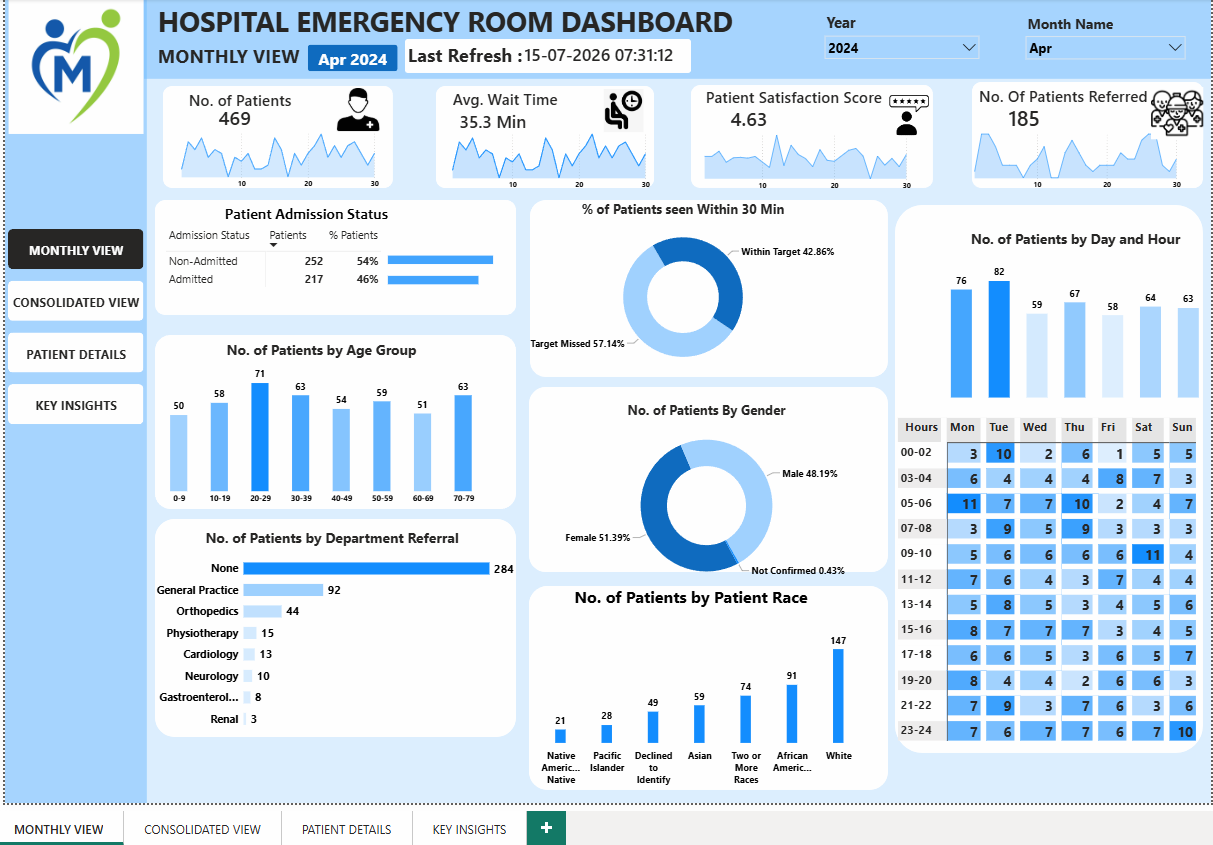

The dashboard page shown, as its layout file describes it:
{"tool":"powerbi","page":{"name":"MONTHLY VIEW","canvas":[2100,1400],"ordinal":0},"visuals":[{"type":"shape","box":[261.2,905.5,628.6,379.6],"z":0},{"type":"shape","box":[261.2,350,628.6,200.2],"z":1000},{"type":"shape","box":[275.1,151.5,400.5,177.6],"z":2000},{"type":"shape","box":[0,0,247.3,1400],"z":3000},{"type":"shape","box":[242,0,1858,139.3],"z":4000},{"type":"textbox","box":[261.2,0,1319,100.7],"z":5000},{"type":"textbox","box":[261.2,70.9,434.7,89.6],"z":6000},{"type":"slicer","fields":{"Values":["Date Table.YEAR"]},"box":[1417.4,19.2,289.1,101],"z":7000},{"type":"cardVisual","fields":{"Data":["Hospital ER_Data.No of Patients"]},"box":[330.8,153.2,259.5,130.6],"z":8000},{"type":"slicer","fields":{"Values":["Date Table.Month Name"]},"box":[1767.4,20.9,297.8,101],"z":9000},{"type":"areaChart","fields":{"Category":["Date Table.Date.Variation.Date Hierarchy.Day"],"Y":["Hospital ER_Data.No of Patients"]},"box":[296,217.7,365.7,118.4],"z":10000},{"type":"textbox","box":[315.2,151.5,290.8,88.8],"z":11000},{"type":"cardVisual","fields":{"Data":["Min(Date Table.Month & Year)"]},"box":[515,62.7,180.9,75.9],"z":12000},{"type":"shape","box":[750.5,151.5,379.6,177.6],"z":13000},{"type":"shape","box":[1194.5,149.8,421.4,179.4],"z":14000},{"type":"shape","box":[1683.8,144.5,402.2,184.6],"z":15000},{"type":"textbox","box":[774.9,149.8,243.8,83.6],"z":16000},{"type":"areaChart","fields":{"Category":["Date Table.Date.Variation.Date Hierarchy.Day"],"Y":["CountNonNull(Hospital ER_Data.Avg Wait Time)"]},"box":[764.4,221.1,365.7,120.1],"z":17000},{"type":"cardVisual","fields":{"Data":["Min(Hospital ER_Data.Avg Wait Time)"]},"box":[750.5,139.3,247.3,134.1],"z":18000},{"type":"cardVisual","fields":{"Data":["Avg(Hospital ER_Data.Patient Satisfaction Score)"]},"box":[1222.4,153.2,257.7,132.3],"z":19000},{"type":"textbox","box":[1215.4,146.3,358.7,88.8],"z":20000},{"type":"areaChart","fields":{"Category":["Date Table.Date.Variation.Date Hierarchy.Day"],"Y":["Hospital ER_Data.Avg of Satisfaction Score"]},"box":[1203.2,222.9,381.3,120.1],"z":21000},{"type":"textbox","box":[1683.8,144.5,358.7,87.1],"z":22000},{"type":"cardVisual","fields":{"Data":["Hospital ER_Data.No of Patient Referred"]},"box":[1706.5,155,257.7,132.3],"z":23000},{"type":"areaChart","fields":{"Category":["Date Table.Date.Variation.Date Hierarchy.Day"],"Y":["Hospital ER_Data.No of Patient Referred"]},"box":[1673.4,221.1,381.3,120.1],"z":24000},{"type":"pivotTable","title":"Patient Admission Status","fields":{"Rows":["Hospital ER_Data.Admission Status"],"Values":["Hospital ER_Data.No of Patients1","Hospital ER_Data.% Patients"]},"box":[275.1,358.7,499.8,149.8],"z":25000},{"type":"barChart","fields":{"Category":["Hospital ER_Data.Admission Status"],"Y":["Hospital ER_Data.No of Patients"]},"box":[661.7,416.2,228.1,106.2],"z":26000},{"type":"shape","box":[261.2,585.1,628.6,303],"z":27000},{"type":"clusteredColumnChart","title":"No. of Patients by Age Group","fields":{"Category":["Hospital ER_Data.Age Group"],"Y":["Hospital ER_Data.No of Patients"]},"box":[254.2,593.8,593.8,294.3],"z":28000},{"type":"clusteredBarChart","title":"No. of Patients by Department Referral","fields":{"Y":["Hospital ER_Data.No of Patients"],"Category":["Hospital ER_Data.Department Referral"]},"box":[247.3,921.1,644.3,363.9],"z":29000},{"type":"shape","box":[914.2,350,623.4,308.2],"z":30000},{"type":"shape","box":[912.4,675.6,625.1,322.1],"z":31000},{"type":"donutChart","title":"% of Patients seen Within 30 Min","fields":{"Category":["Hospital ER_Data.WaitTime"],"Y":["Hospital ER_Data.No of Patients"]},"box":[875.9,350,609.5,308.2],"z":32000},{"type":"donutChart","title":"No. of Patients By Gender","fields":{"Y":["Hospital ER_Data.No of Patients"],"Category":["Hospital ER_Data.Patient Gender"]},"box":[863.7,700,715.7,334.3],"z":33000},{"type":"shape","box":[912.4,1022.1,625.1,355.2],"z":34000},{"type":"columnChart","title":"No. of Patients by Patient Race","fields":{"Category":["Hospital ER_Data.Patient Race"],"Y":["Hospital ER_Data.No of Patients"]},"box":[889.8,1022.1,609.5,355.2],"z":35000},{"type":"shape","box":[1549.8,358.7,536.3,954.2],"z":36000},{"type":"pivotTable","fields":{"Rows":["Hospital ER_Data.Waittime Interval"],"Columns":["Date Table.Day Name"],"Values":["Hospital ER_Data.No of Patients"]},"box":[1549.8,724.4,536.3,595.5],"z":37000},{"type":"columnChart","title":"No. of Patients by Day and Hour","fields":{"Category":["Date Table.Day Name"],"Y":["Hospital ER_Data.No of Patients"]},"box":[1642,400.5,444,299.5],"z":38000},{"type":"pageNavigator","box":[5.2,400.5,236.8,341.3],"z":39000},{"type":"image","box":[552,155,125.4,74.9],"z":40000},{"type":"image","box":[1018.7,156.7,116.7,74.9],"z":41000},{"type":"image","box":[1528.9,163.7,90.5,76.6],"z":42000},{"type":"image","box":[1995.5,146.3,90.5,104.5],"z":43000},{"type":"image","box":[5.2,0,236.8,235.1],"z":44000},{"type":"shape","box":[696.5,69.7,498,59.2],"z":44001},{"type":"cardVisual","fields":{"Data":["Min(Last Refresh.Last Refresh)"]},"box":[863.7,43.5,565.9,113.2],"z":44002},{"type":"textbox","box":[696.5,69.7,301.2,71.4],"z":44003}]}

Visuals, with their boxes on the page's 2100x1400 design canvas (x1, y1, x2, y2). These are canvas units, not pixel positions in the 1213x845 screenshot, which may show the page scaled, cropped or inside an application window:
shape: l=261, t=906, r=890, b=1285
shape: l=261, t=350, r=890, b=550
shape: l=275, t=152, r=676, b=329
shape: l=0, t=0, r=247, b=1400
shape: l=242, t=0, r=2100, b=139
textbox: l=261, t=0, r=1580, b=101
textbox: l=261, t=71, r=696, b=160
slicer - Date Table.YEAR: l=1417, t=19, r=1706, b=120
cardVisual - Hospital ER_Data.No of Patients: l=331, t=153, r=590, b=284
slicer - Date Table.Month Name: l=1767, t=21, r=2065, b=122
areaChart - Date Table.Date.Variation.Date Hierarchy.Day x Hospital ER_Data.No of Patients: l=296, t=218, r=662, b=336
textbox: l=315, t=152, r=606, b=240
cardVisual - Min(Date Table.Month & Year): l=515, t=63, r=696, b=139
shape: l=750, t=152, r=1130, b=329
shape: l=1194, t=150, r=1616, b=329
shape: l=1684, t=144, r=2086, b=329
textbox: l=775, t=150, r=1019, b=233
areaChart - Date Table.Date.Variation.Date Hierarchy.Day x CountNonNull(Hospital ER_Data.Avg Wait Time): l=764, t=221, r=1130, b=341
cardVisual - Min(Hospital ER_Data.Avg Wait Time): l=750, t=139, r=998, b=273
cardVisual - Avg(Hospital ER_Data.Patient Satisfaction Score): l=1222, t=153, r=1480, b=286
textbox: l=1215, t=146, r=1574, b=235
areaChart - Date Table.Date.Variation.Date Hierarchy.Day x Hospital ER_Data.Avg of Satisfaction Score: l=1203, t=223, r=1584, b=343
textbox: l=1684, t=144, r=2042, b=232
cardVisual - Hospital ER_Data.No of Patient Referred: l=1706, t=155, r=1964, b=287
areaChart - Date Table.Date.Variation.Date Hierarchy.Day x Hospital ER_Data.No of Patient Referred: l=1673, t=221, r=2055, b=341
"Patient Admission Status" pivotTable: l=275, t=359, r=775, b=508
barChart - Hospital ER_Data.Admission Status x Hospital ER_Data.No of Patients: l=662, t=416, r=890, b=522
shape: l=261, t=585, r=890, b=888
"No. of Patients by Age Group" clusteredColumnChart: l=254, t=594, r=848, b=888
"No. of Patients by Department Referral" clusteredBarChart: l=247, t=921, r=892, b=1285
shape: l=914, t=350, r=1538, b=658
shape: l=912, t=676, r=1538, b=998
"% of Patients seen Within 30 Min" donutChart: l=876, t=350, r=1485, b=658
"No. of Patients By Gender" donutChart: l=864, t=700, r=1579, b=1034
shape: l=912, t=1022, r=1538, b=1377
"No. of Patients by Patient Race" columnChart: l=890, t=1022, r=1499, b=1377
shape: l=1550, t=359, r=2086, b=1313
pivotTable - Hospital ER_Data.Waittime Interval x Date Table.Day Name: l=1550, t=724, r=2086, b=1320
"No. of Patients by Day and Hour" columnChart: l=1642, t=400, r=2086, b=700
pageNavigator: l=5, t=400, r=242, b=742
image: l=552, t=155, r=677, b=230
image: l=1019, t=157, r=1135, b=232
image: l=1529, t=164, r=1619, b=240
image: l=1996, t=146, r=2086, b=251
image: l=5, t=0, r=242, b=235
shape: l=696, t=70, r=1194, b=129
cardVisual - Min(Last Refresh.Last Refresh): l=864, t=44, r=1430, b=157
textbox: l=696, t=70, r=998, b=141
